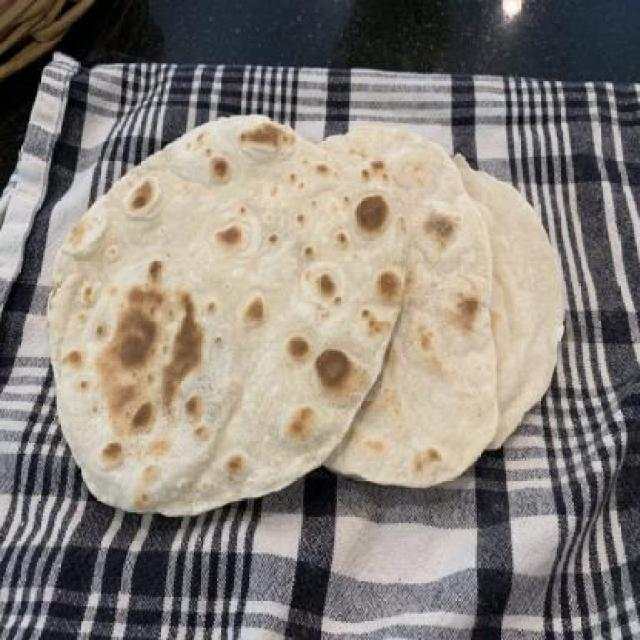chapati: (48, 115, 406, 517), (316, 123, 498, 489), (454, 153, 564, 450)
